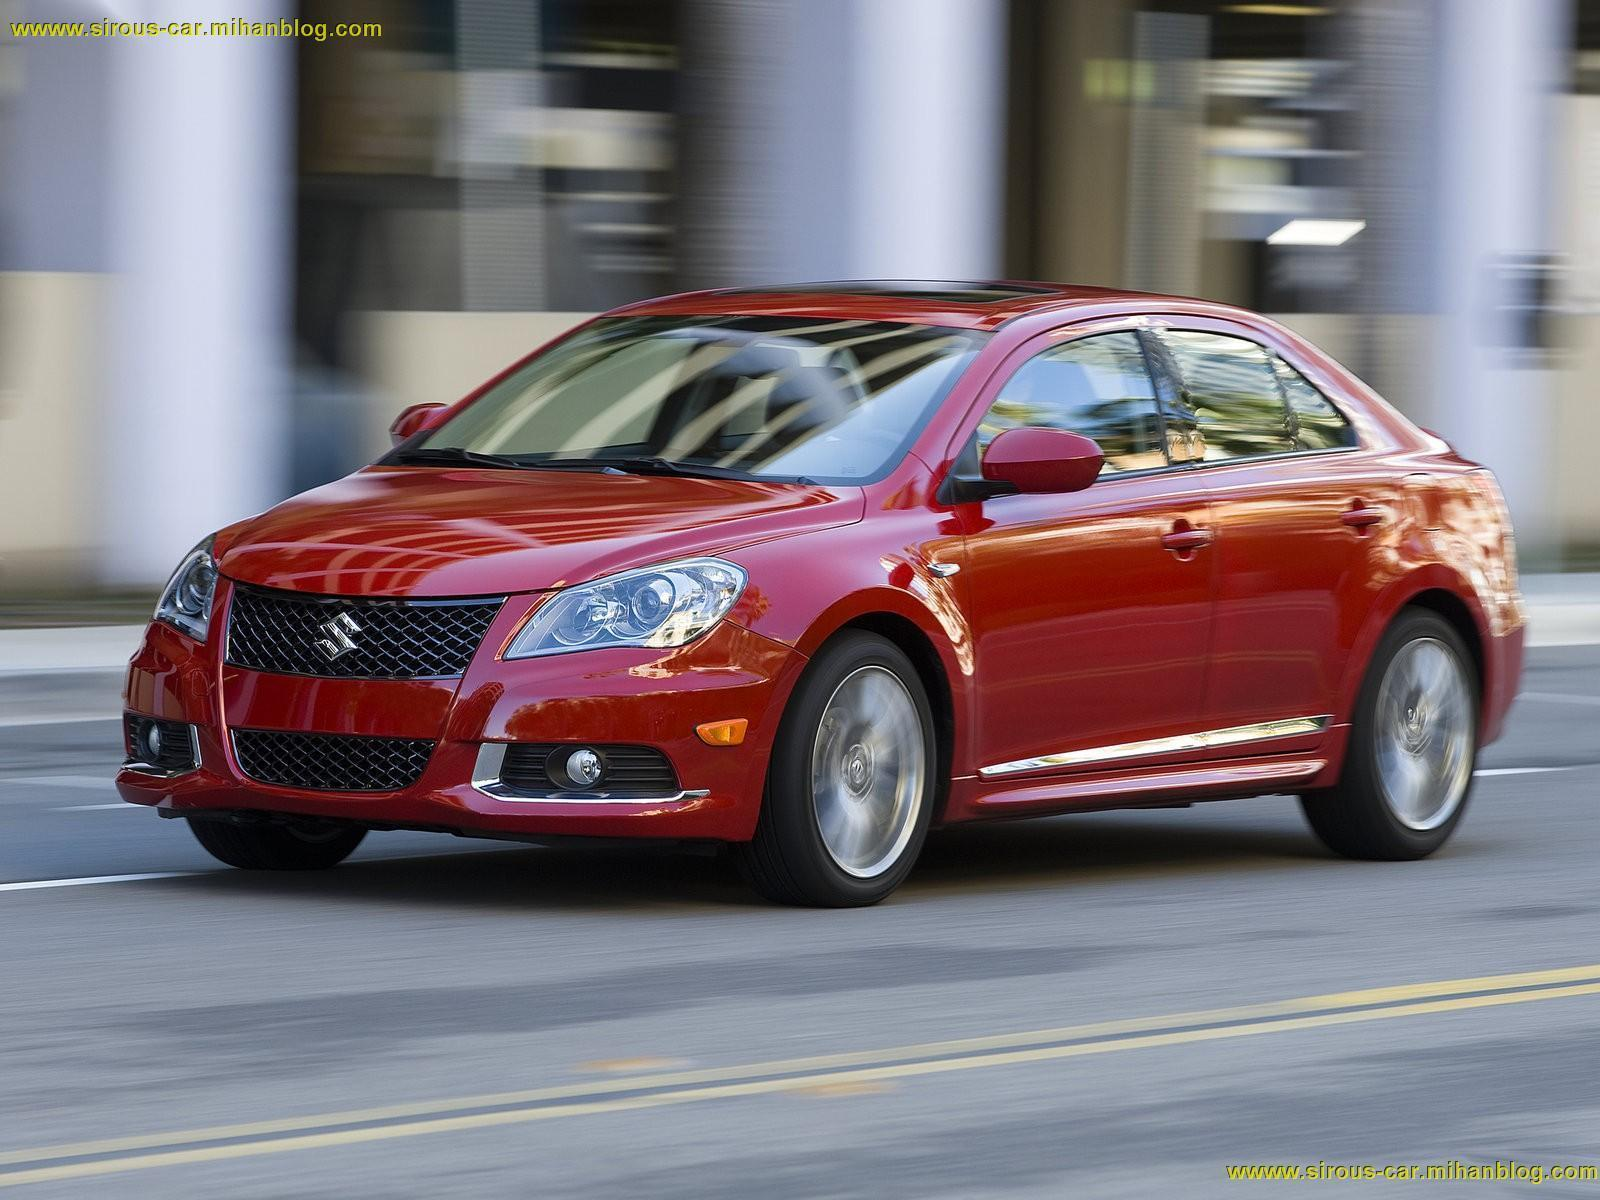suzuki: (296, 603, 383, 674)
